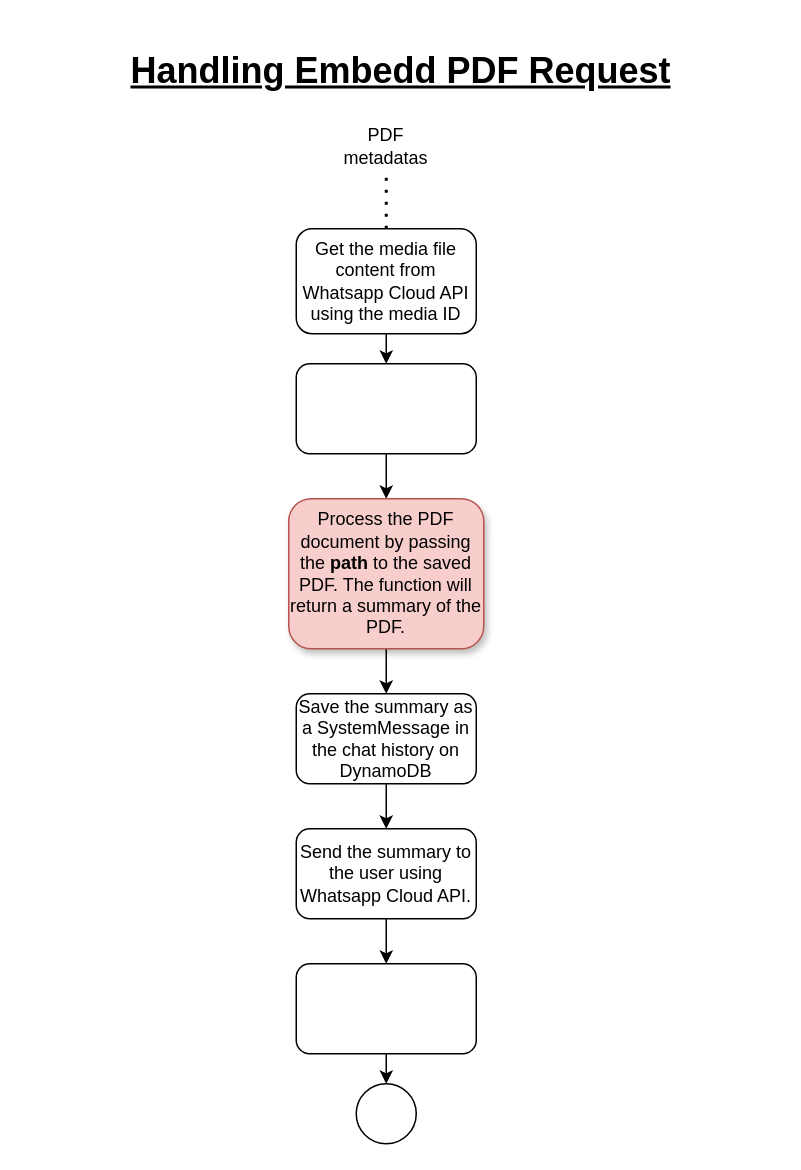
This 801x1170 diagram has some shape labels left out. Each missing label, with the centre of its shape:
Remove the PDF file from the temporary files directory.: pixel 385 1008
Save the PDF file in the temporary files directory: pixel 385 408
